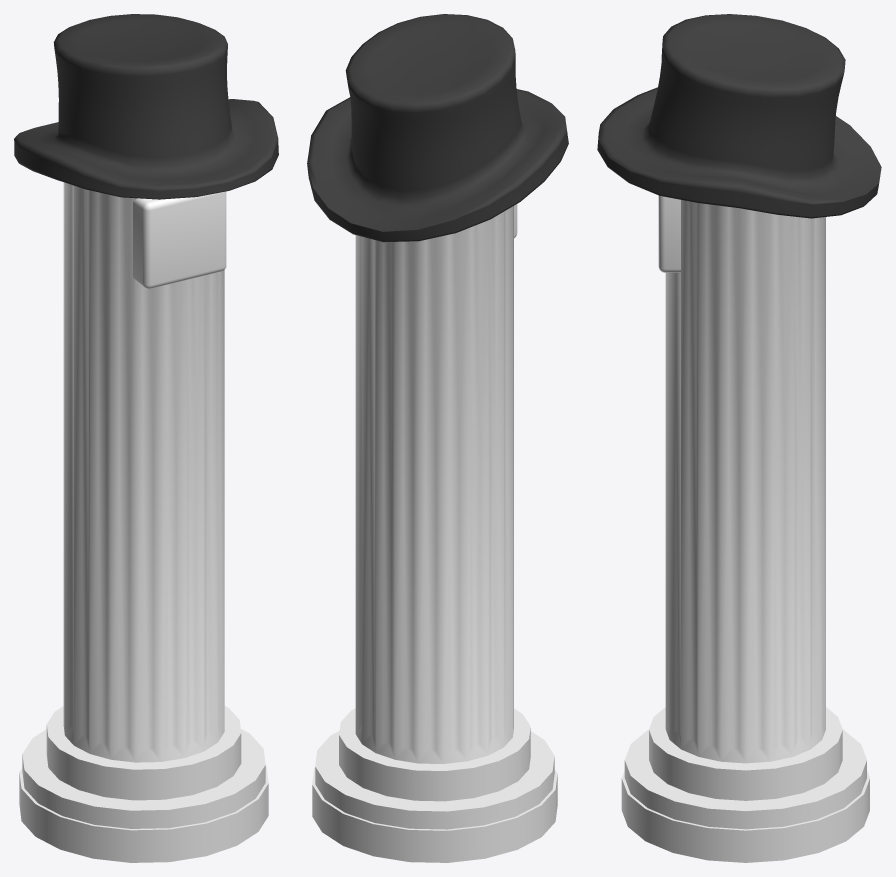
File: Pillar.fbx
3 views of the same model, side by side, from view 1: azimuth 30°, elevation 25°; view 2: azimuth 150°, elevation 25°; view 3: azimuth 270°, elevation 25° (orthographic).
Parts seen in each view (by area): view 1: Pillar_1, hoed; view 2: Pillar_1, hoed; view 3: Pillar_1, hoed.
Part boxes in pixels (<box>): Pillar_1: <box>19,182,268,862</box>; hoed: <box>14,14,278,199</box>; Pillar_1: <box>312,204,557,862</box>; hoed: <box>307,14,568,242</box>; Pillar_1: <box>621,195,869,862</box>; hoed: <box>597,14,881,218</box>.
Bounding box in the file's own units: 57.23 × 190 × 63.53.
